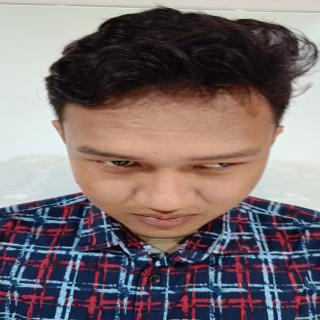Marah: (57, 81, 283, 243)
